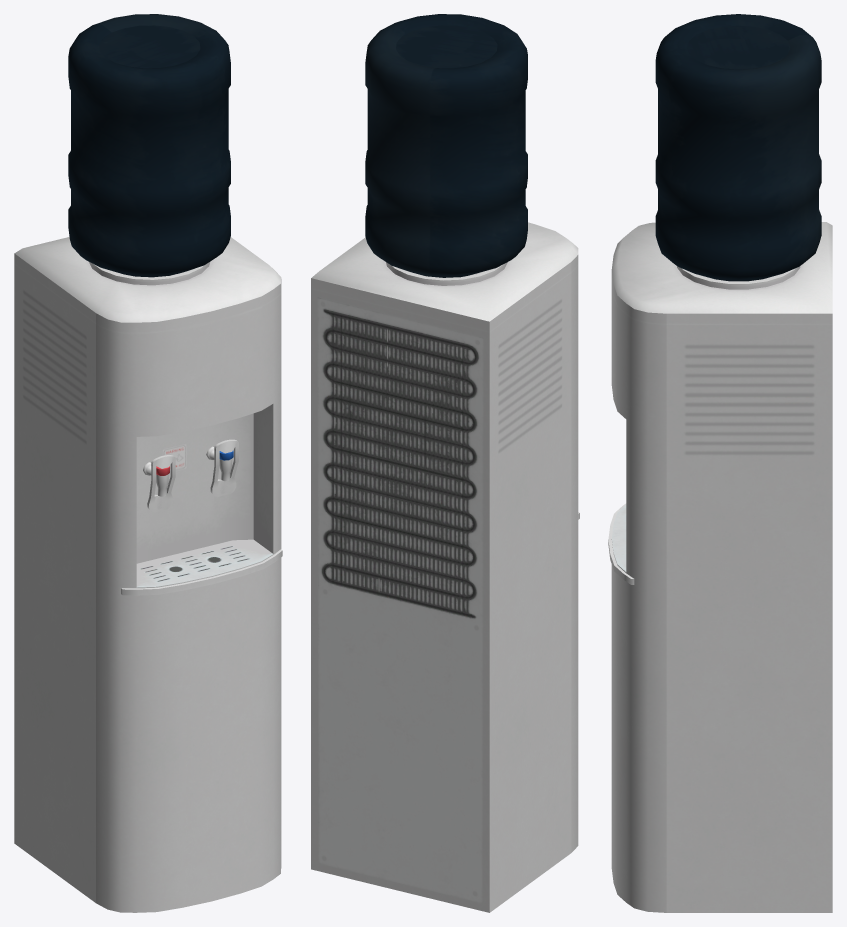
Rendered from FBX_WaterCooler.fbx.
3 renders of one model, left to right at view 1: azimuth 30°, elevation 25°; view 2: azimuth 150°, elevation 25°; view 3: azimuth 270°, elevation 25°, orthographic.
Parts seen in each view (by area): view 1: SM_WaterCooler; view 2: SM_WaterCooler; view 3: SM_WaterCooler.
Boxes of the visible parts, bbox=[...] form: SM_WaterCooler: bbox=[14, 14, 282, 912]; SM_WaterCooler: bbox=[311, 14, 579, 912]; SM_WaterCooler: bbox=[608, 14, 832, 912].
Size of the model in its own units: 0.34 by 1.49 by 0.3647.
